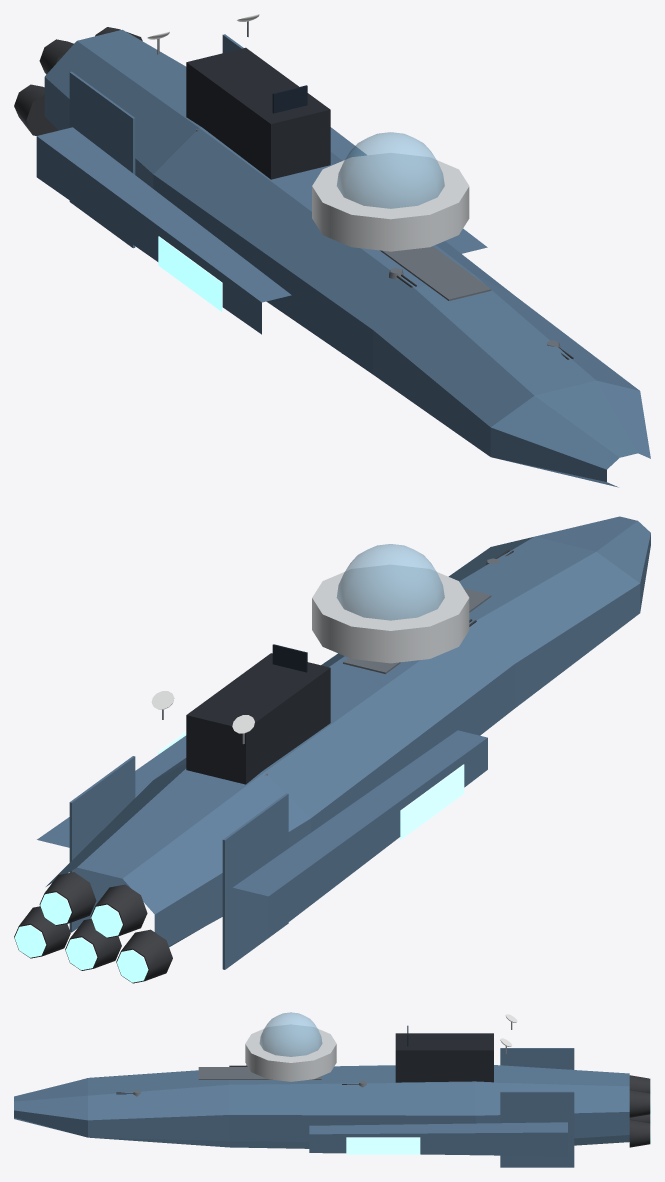
Rendered from space_ship_command_ship_mk5.glb.
3 views of the same model, one above another, from view 1: azimuth 30°, elevation 25°; view 2: azimuth 150°, elevation 25°; view 3: azimuth 270°, elevation 25° (orthographic). The views are drawn at different scales.
Visible parts, largest first — view 1: body, hangar_r, engine_0; view 2: body, engine_0, engine_1, engine_3, hangar_r, engine_4, engine_2; view 3: body, hangar_l, engine_4, engine_3, engine_1.
Part boxes in pixels (<box>): body: <box>36,29,650,487</box>; hangar_r: <box>158,236,222,311</box>; engine_0: <box>14,84,58,135</box>; body: <box>37,516,650,969</box>; engine_0: <box>116,929,172,983</box>; engine_1: <box>90,884,147,938</box>; engine_3: <box>39,872,96,925</box>; hangar_r: <box>400,764,464,839</box>; engine_4: <box>14,906,70,958</box>; engine_2: <box>65,919,121,970</box>; body: <box>14,1012,629,1167</box>; hangar_l: <box>346,1137,420,1154</box>; engine_4: <box>629,1119,650,1147</box>; engine_3: <box>629,1090,650,1117</box>; engine_1: <box>629,1075,650,1093</box>.
Size of what is drawn, in the model's own units: 31.34 by 27.65 by 123.
